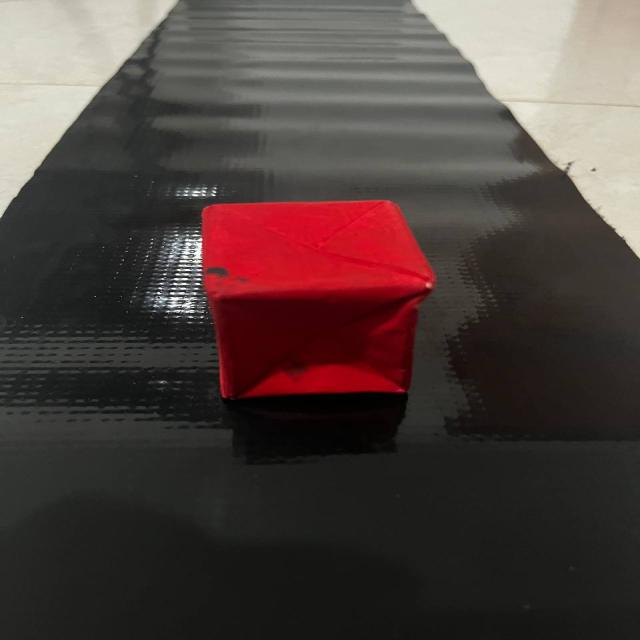Rojo: (175, 176, 453, 435)
